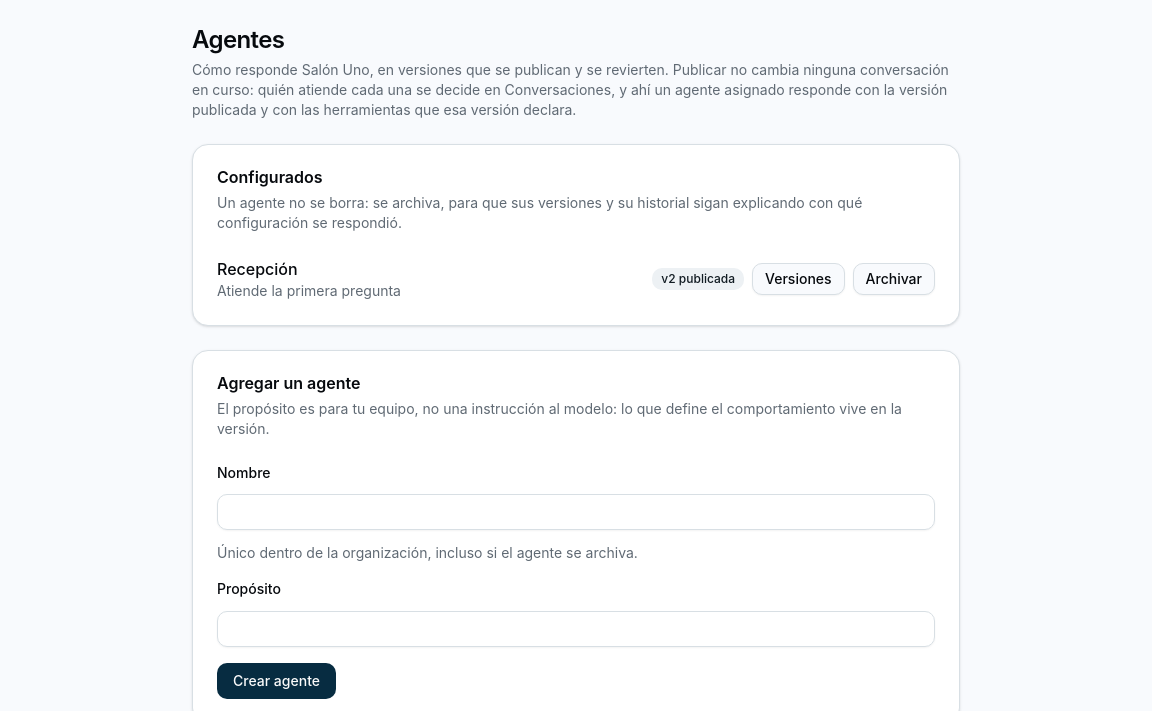
configuración de agentes › exige un motivo antes de dejar cambiar la publicación
Click the button "Versiones" at x=798, y=279, box x1=752 y1=263 x2=844 y2=295
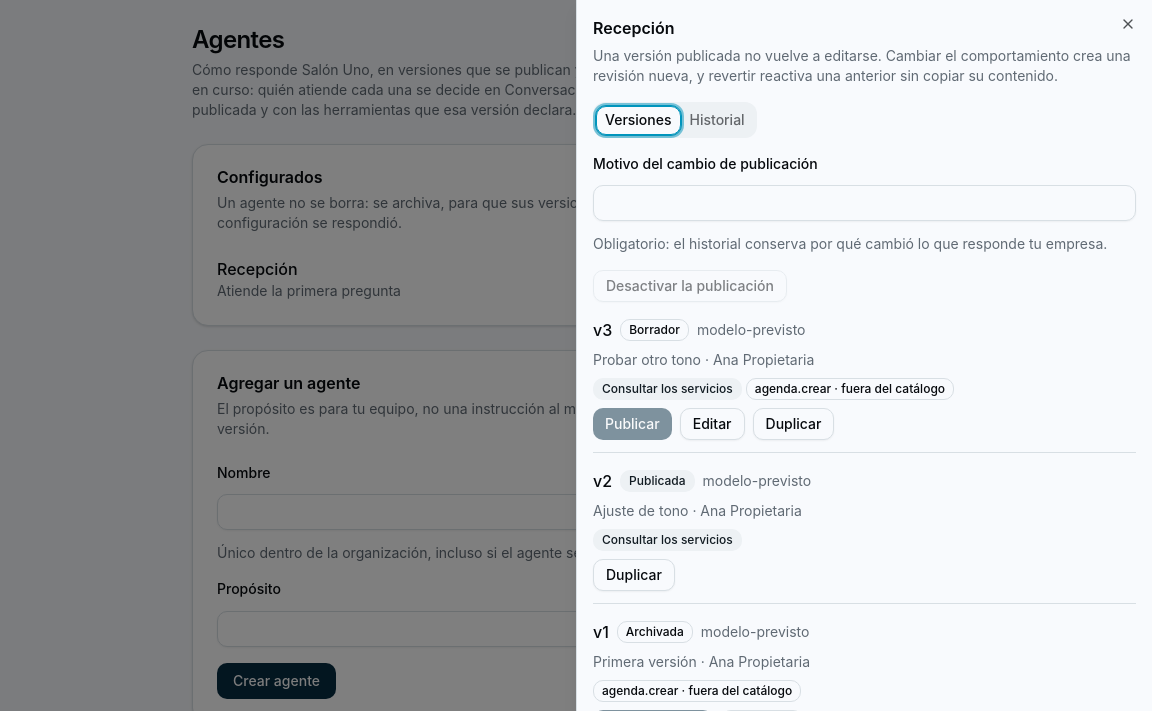
Now the button "Desactivar la publicación" is disabled, box x1=593 y1=270 x2=787 y2=302
Now the button "Publicar" is disabled, box x1=593 y1=408 x2=672 y2=440
